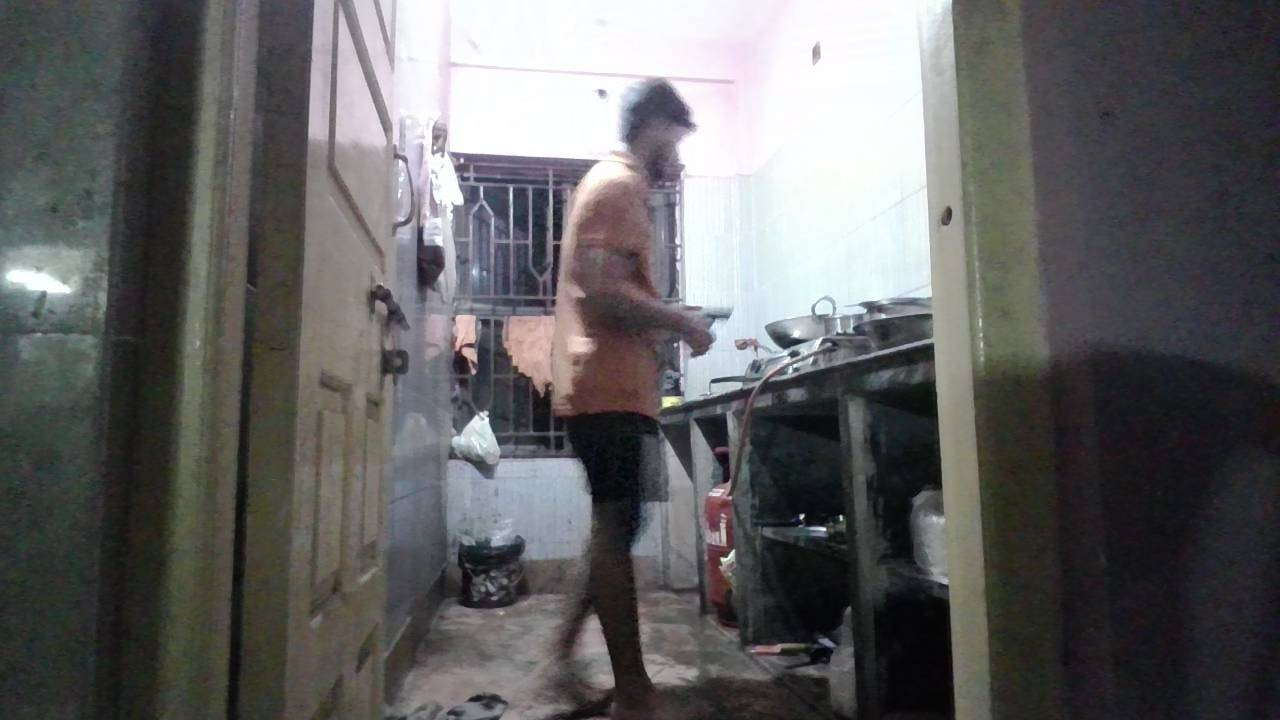red_box: (568, 357, 647, 416)
